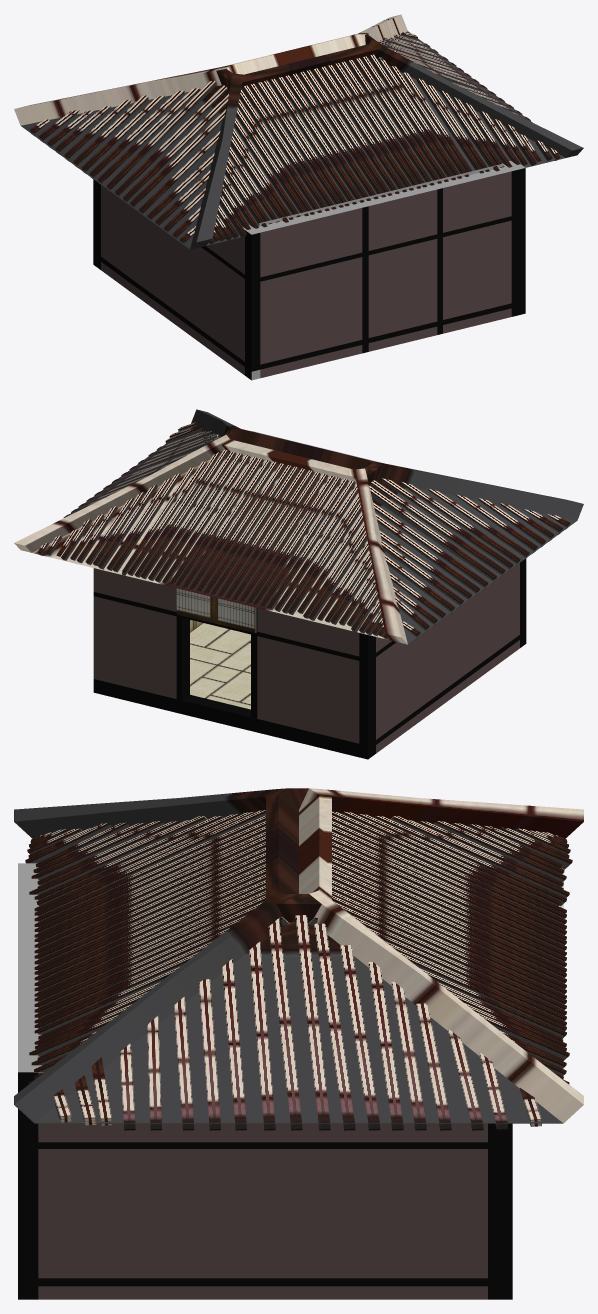
Rendered from houseit.fbx.
The picture shows the model from 3 angles, top to bottom: view 1: azimuth 30°, elevation 25°; view 2: azimuth 150°, elevation 25°; view 3: azimuth 270°, elevation 25°; orthographic projection. The views are drawn at different scales.
Visible parts, largest first — view 1: roofpole94, pCube9, pCube14; view 2: roofpole94, pCube9, pCube16; view 3: roofpole94, pCube9.
Boxes of the visible parts, box(x1,y1,x2,y2) form: roofpole94: box(14, 14, 583, 249); pCube9: box(93, 160, 525, 380); pCube14: box(259, 163, 503, 226); roofpole94: box(14, 409, 583, 644); pCube9: box(93, 431, 526, 759); pCube16: box(176, 588, 256, 633); roofpole94: box(14, 788, 583, 1130); pCube9: box(18, 863, 512, 1299).
Bounding box in the file's own units: 15.43 × 8.61 × 12.55.
Materials: 8 (5 with a texture image).
